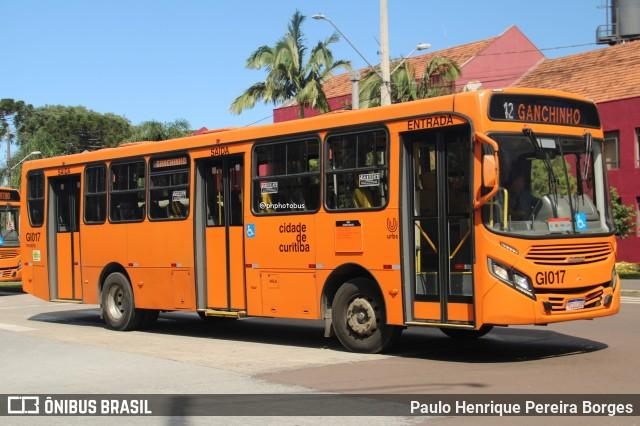GANCHINHO: (515, 100, 583, 129)
